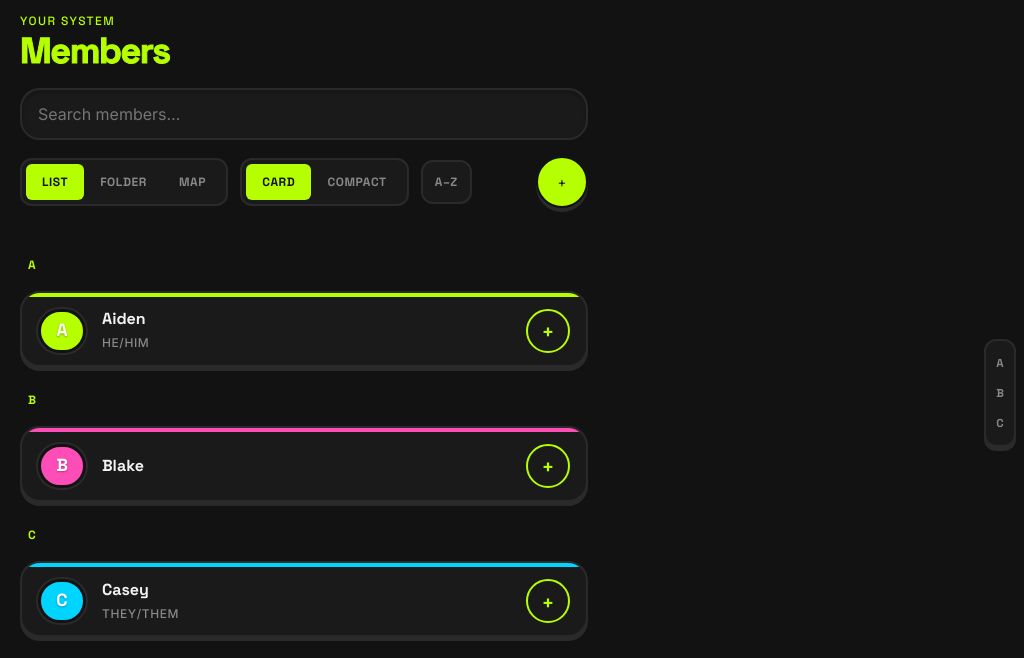
search filters member list
Check: the text "Aiden" is shown, box top-left (102, 309), bottom-right (149, 329)
Type "Bla" into the field with placeholder "Search members…". click: x=304, y=114
box: top-left (20, 88), bottom-right (588, 140)
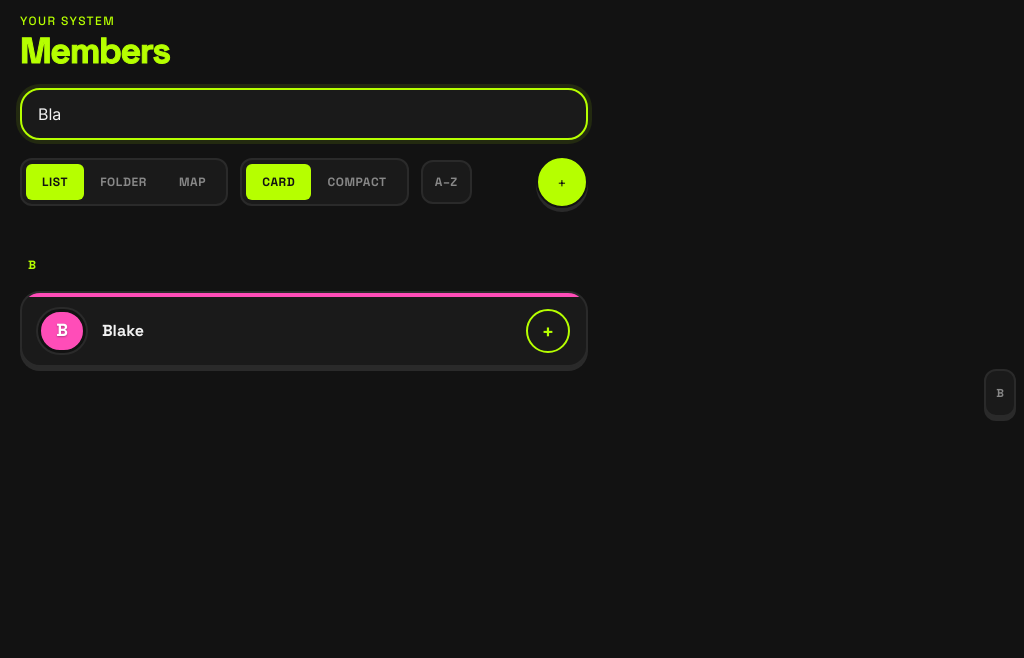
Check: the text "Blake" is shown, box top-left (102, 321), bottom-right (144, 341)
Check: the link "Aiden" is gone
